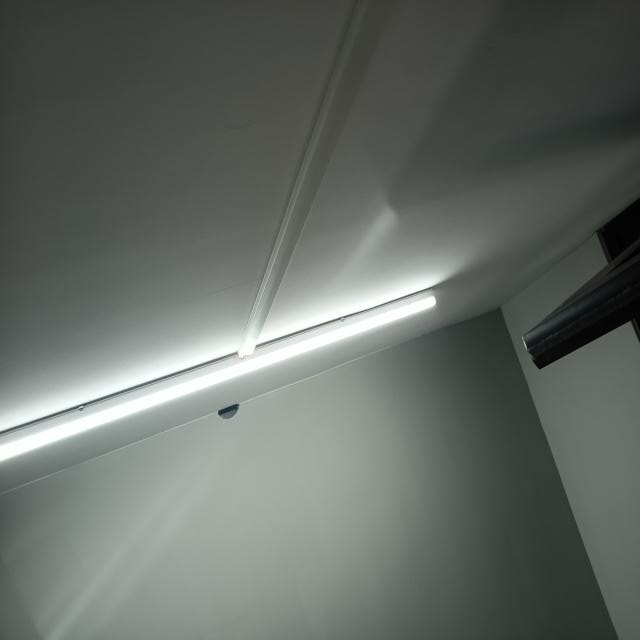fluorescent tube: (2, 271, 439, 493)
